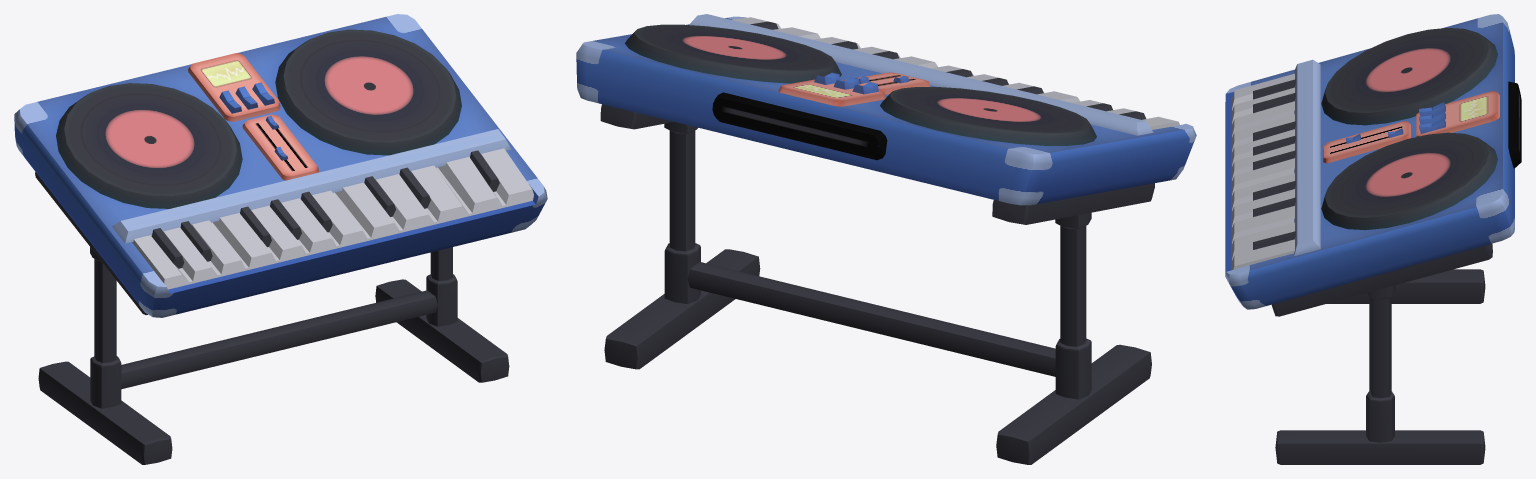
Rendered from Adjustable_DJTable_fbx.fbx.
3 views of the same model, side by side, from view 1: azimuth 30°, elevation 25°; view 2: azimuth 150°, elevation 25°; view 3: azimuth 270°, elevation 25° (orthographic). The views are drawn at different scales.
Visible parts, largest first — view 1: Adjustable_DJ_Table_LOD0, Adjustable_DJ_Table_Stand_LOD0; view 2: Adjustable_DJ_Table_LOD0, Adjustable_DJ_Table_Stand_LOD0; view 3: Adjustable_DJ_Table_LOD0, Adjustable_DJ_Table_Stand_LOD0.
Part boxes in pixels (bbox=[...]): Adjustable_DJ_Table_LOD0: bbox=[14, 14, 547, 362]; Adjustable_DJ_Table_Stand_LOD0: bbox=[38, 274, 509, 464]; Adjustable_DJ_Table_LOD0: bbox=[576, 14, 1196, 346]; Adjustable_DJ_Table_Stand_LOD0: bbox=[604, 243, 1151, 464]; Adjustable_DJ_Table_LOD0: bbox=[1225, 14, 1521, 397]; Adjustable_DJ_Table_Stand_LOD0: bbox=[1275, 269, 1485, 464].
Bounding box in the file's own units: 90.66 × 61.31 × 59.09.
